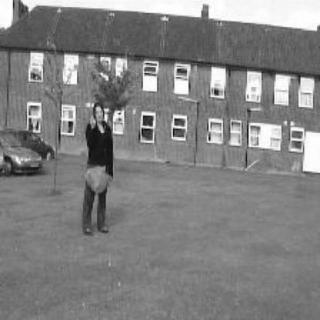other: (75, 161, 108, 197)
